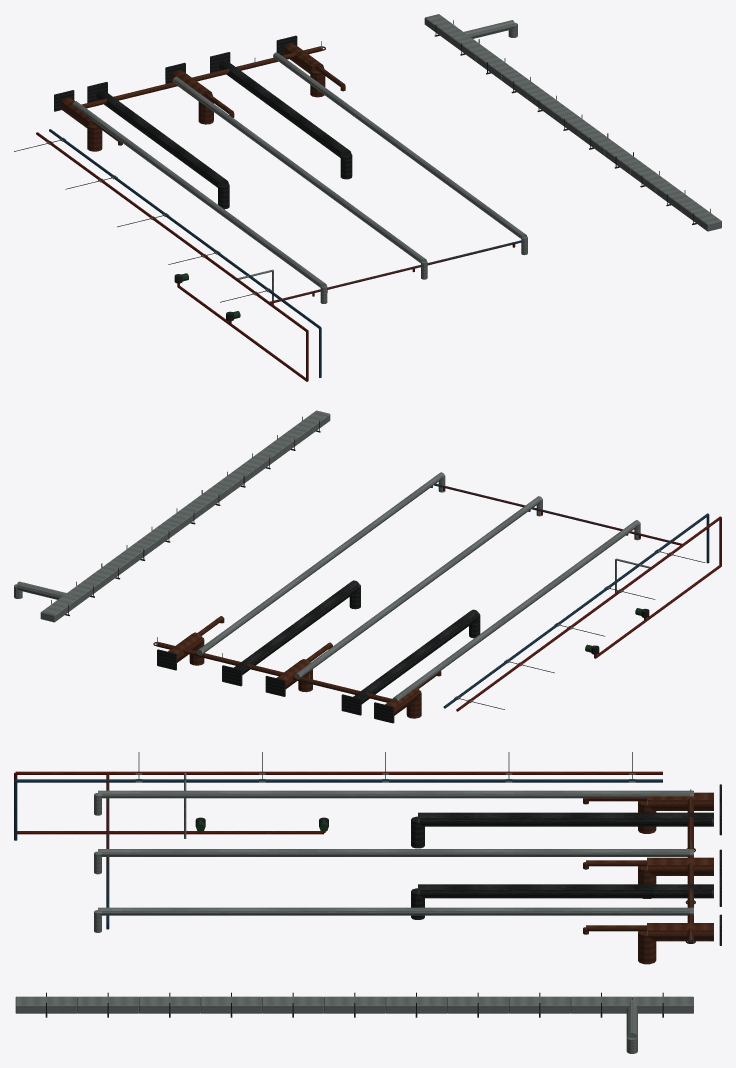
Rendered from level_school_pipework.glb.
3 renders of one model, top to bottom at view 1: azimuth 30°, elevation 25°; view 2: azimuth 150°, elevation 25°; view 3: azimuth 270°, elevation 25°, orthographic. The views are drawn at different scales.
Visible parts, largest first — view 1: level_school_pipework; view 2: level_school_pipework; view 3: level_school_pipework.
Boxes of the visible parts, x1=… form: level_school_pipework: x1=14, y1=14, x2=721, y2=381; level_school_pipework: x1=14, y1=410, x2=721, y2=723; level_school_pipework: x1=14, y1=752, x2=721, y2=1053.
Size of the model in its own units: 22.57 by 2.66 by 22.97.
6 materials, 6 textured.
